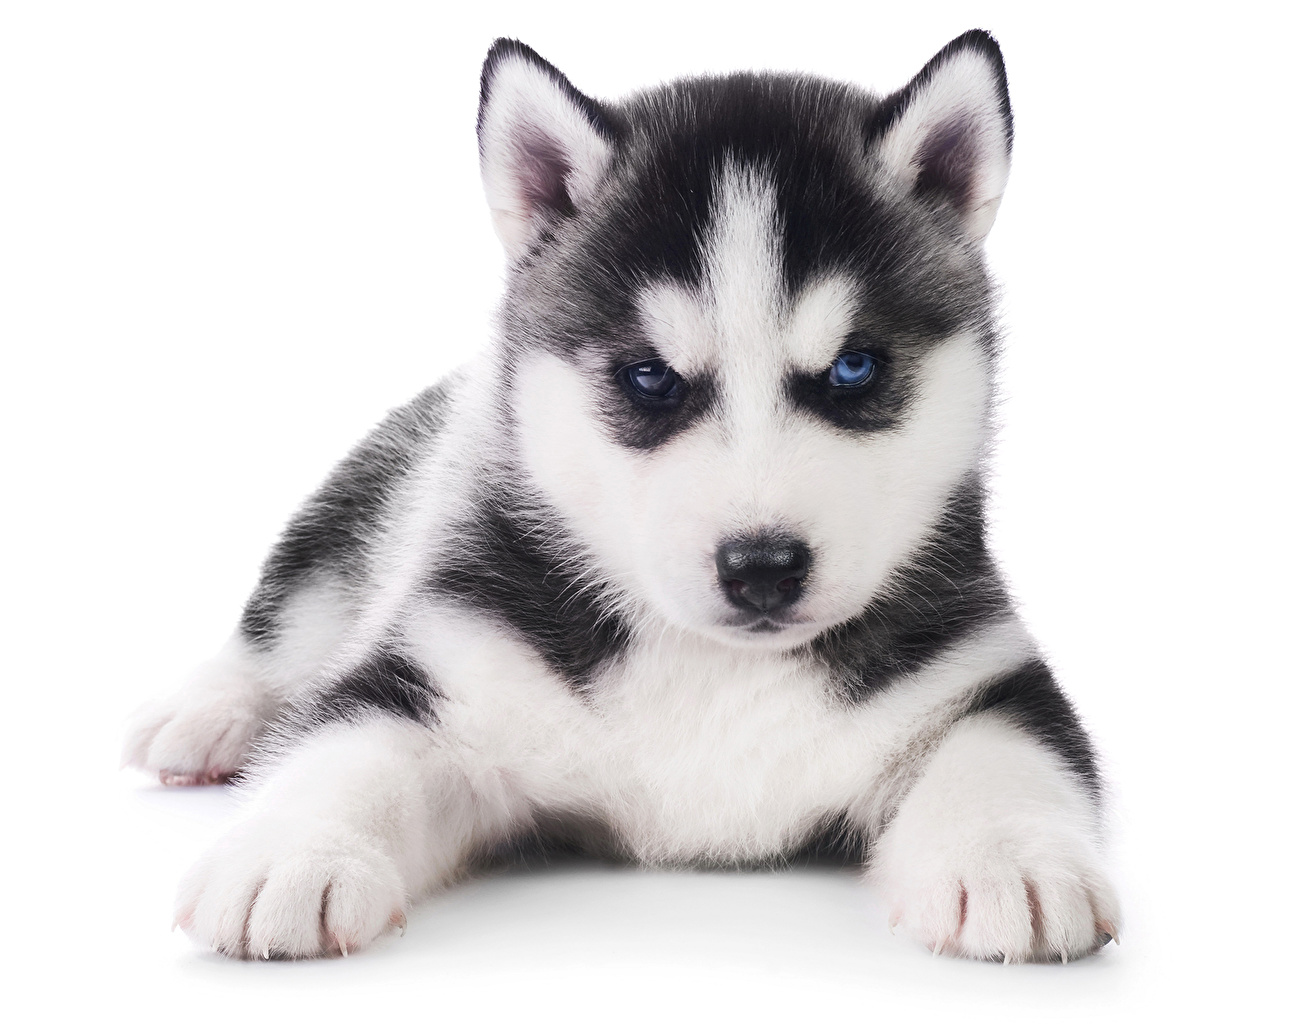husky: (112, 13, 1113, 977)
